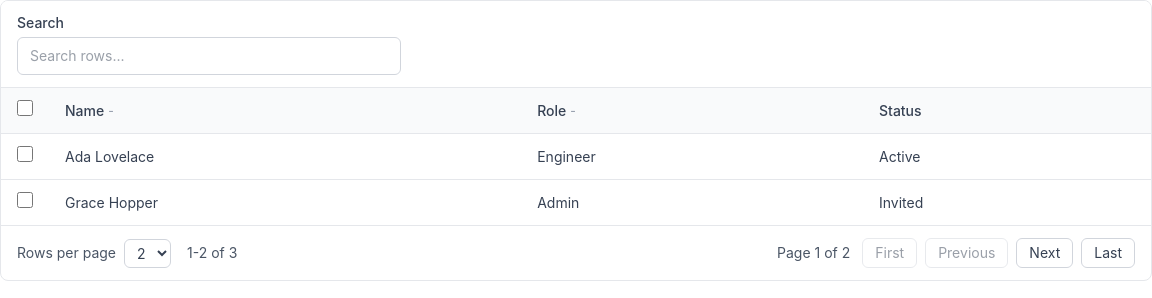
Test: DataGrid › shows row range text and jumps to first and last pages
Expected: the text "1-2 of 3" is shown, [187,243,237,263]
Click the button with aria-label "Go to last page".
click(1108, 253)  # box [1081,238,1135,268]
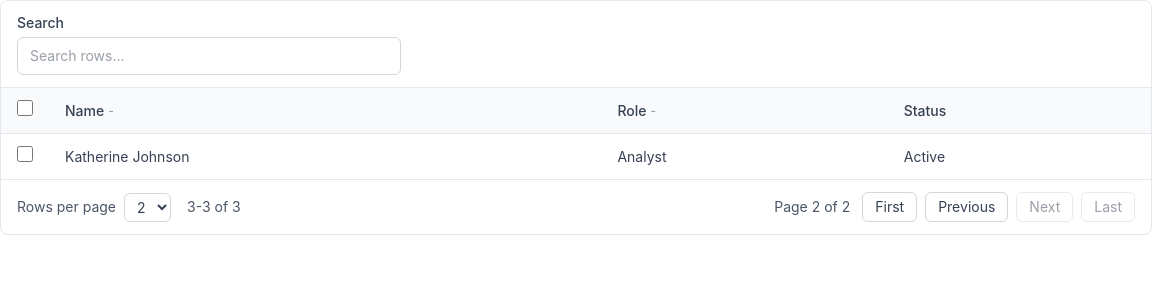
Expected: the text "3-3 of 3" is shown, [187,197,241,217]
Expected: the text "Katherine Johnson" is shown, [49,134,601,179]
Click the button with aria-label "Go to first page".
click(890, 207)  # box [862,192,917,222]
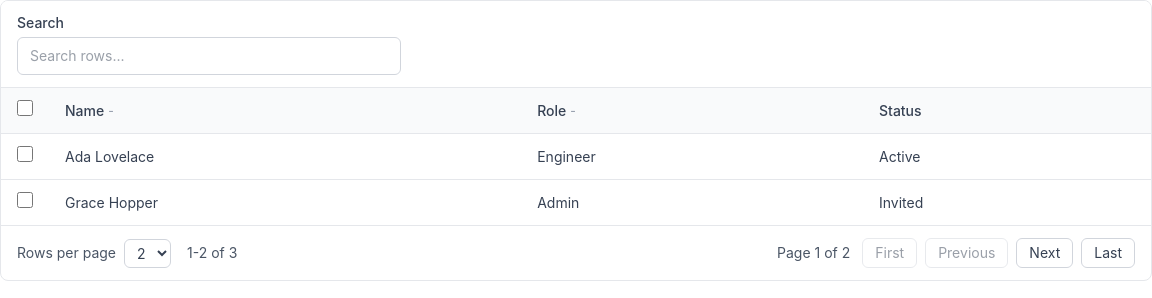
Expected: the text "1-2 of 3" is shown, [187,243,237,263]
Expected: the text "Ada Lovelace" is shown, [49,134,521,180]
